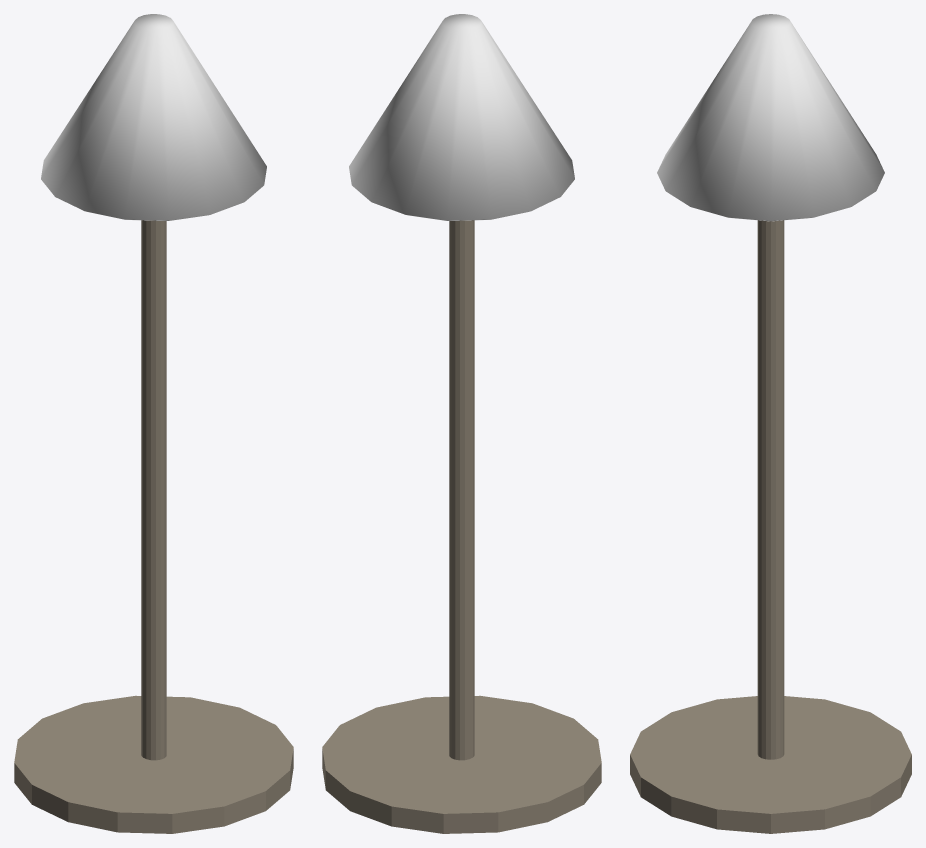
Rendered from lamapara.fbx.
The picture shows the model from 3 angles, left to right: view 1: azimuth 30°, elevation 25°; view 2: azimuth 150°, elevation 25°; view 3: azimuth 270°, elevation 25°; orthographic projection.
Parts seen in each view (by area): view 1: Cuerpo, Tapa; view 2: Cuerpo, Tapa; view 3: Cuerpo, Tapa.
Part boxes in pixels (x1,y1,x2,y2): Cuerpo: (14, 220, 293, 833); Tapa: (41, 14, 266, 220); Cuerpo: (322, 220, 601, 833); Tapa: (349, 14, 574, 220); Cuerpo: (630, 220, 911, 833); Tapa: (657, 14, 884, 221).
Size of the model in its own units: 193 by 568 by 193.
